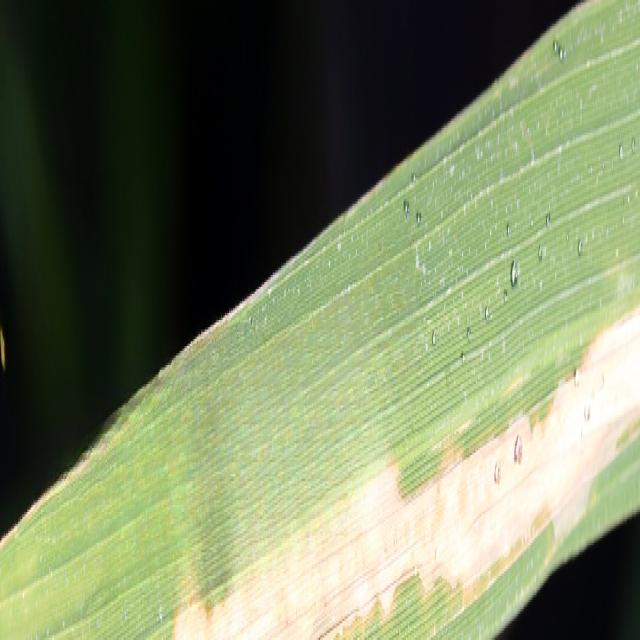BLB: (172, 303, 639, 640)
